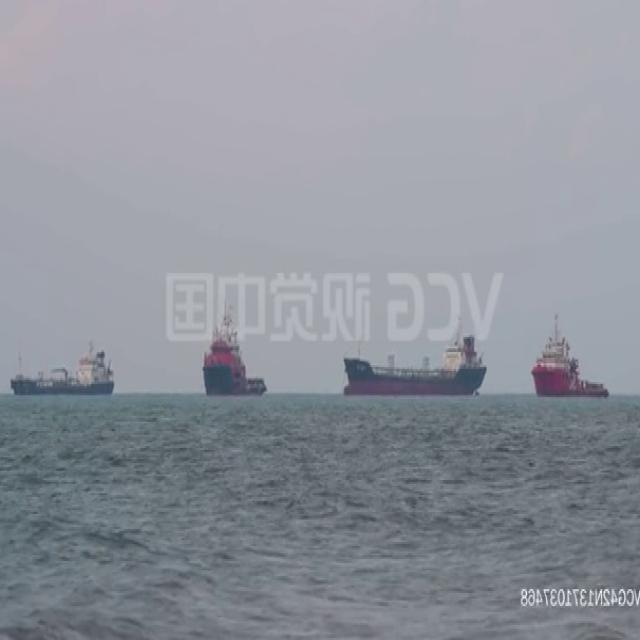cargoship: (343, 316, 488, 393), (533, 310, 617, 395), (10, 338, 115, 393), (202, 309, 268, 395)
